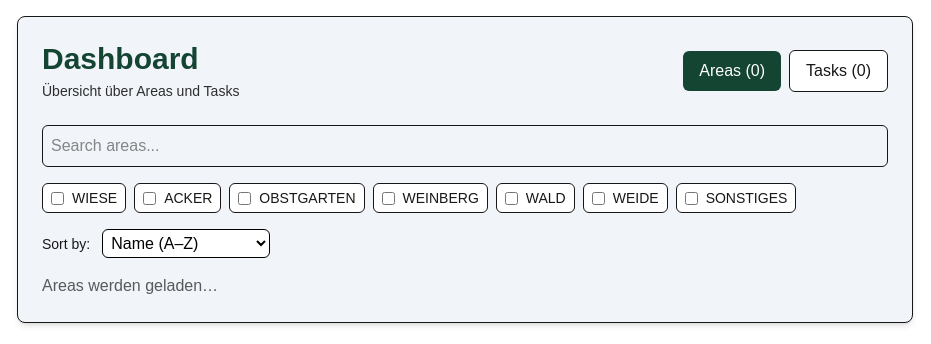
Test: wechselt zur Tasks-Ansicht und zeigt Tasks mit Fälligkeitsdatum
Note: Warte auf den Tasks-Button (ohne exakte Count-Match), robust gegenüber asynchronen Count-Updates
Click the button "Tasks (0)": [839, 71] box [789,50,888,92]
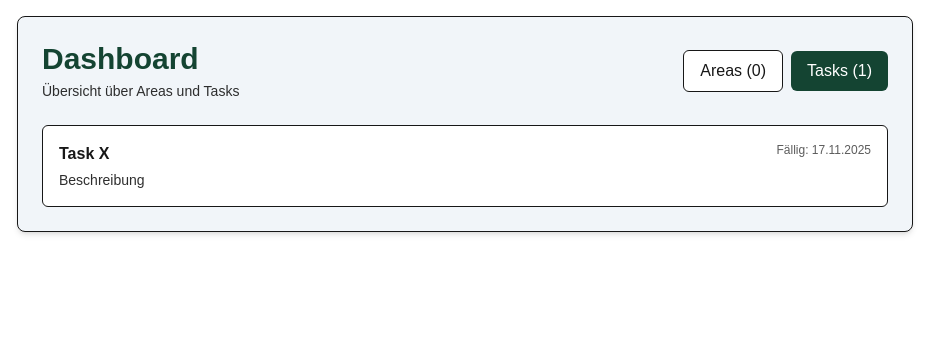
Expected: the heading "Task X" is shown, [59,145,109,162]
Expected: the text "Fällig: 17.11.2025" is shown, [776,142,871,158]
